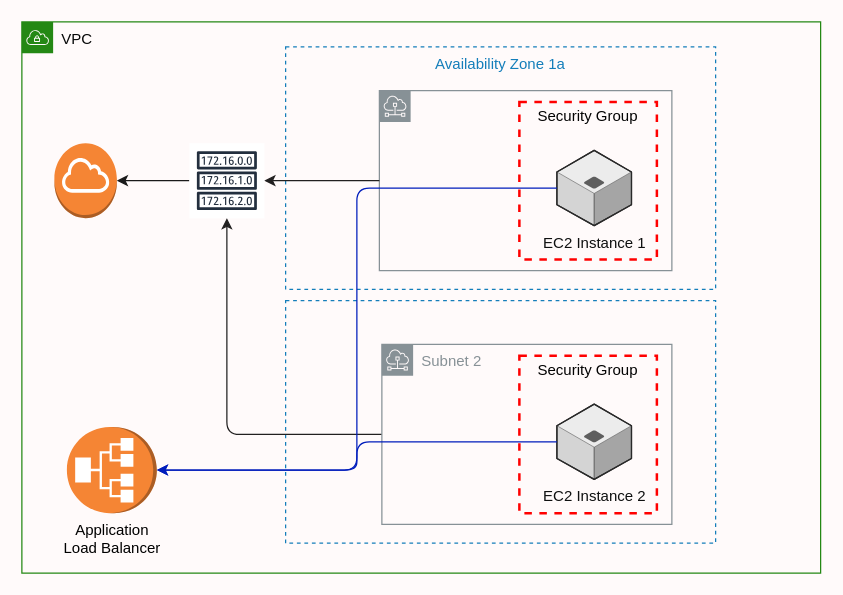
Image size: 843x595. Some labels were removed from this diagram. Each missing label, with the box of its shape:
Availability Zone 1b: (284, 299, 716, 543)
Internet Gateway: (53, 142, 117, 218)
Route table: (188, 142, 264, 218)
Subnet 1: (378, 89, 672, 271)
